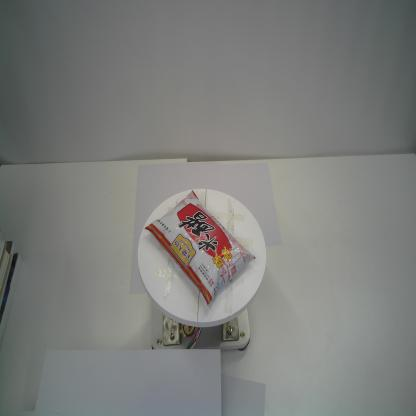Seasoner: (142, 188, 257, 309)
